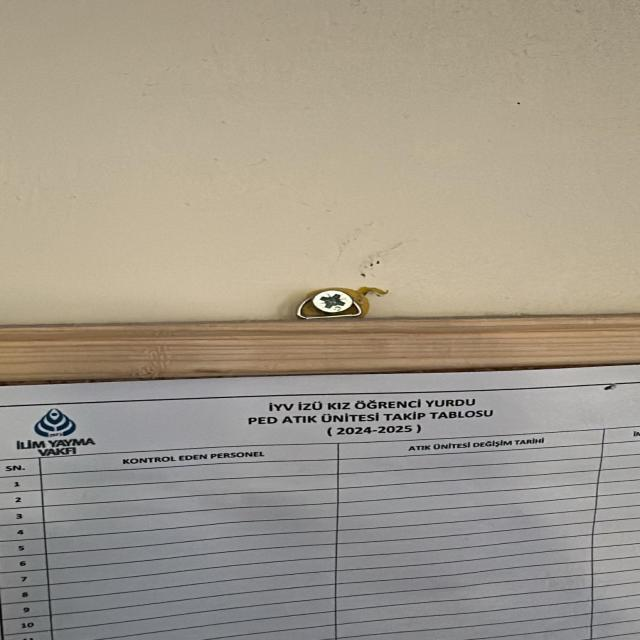Pozidriv: (301, 291, 369, 323)
